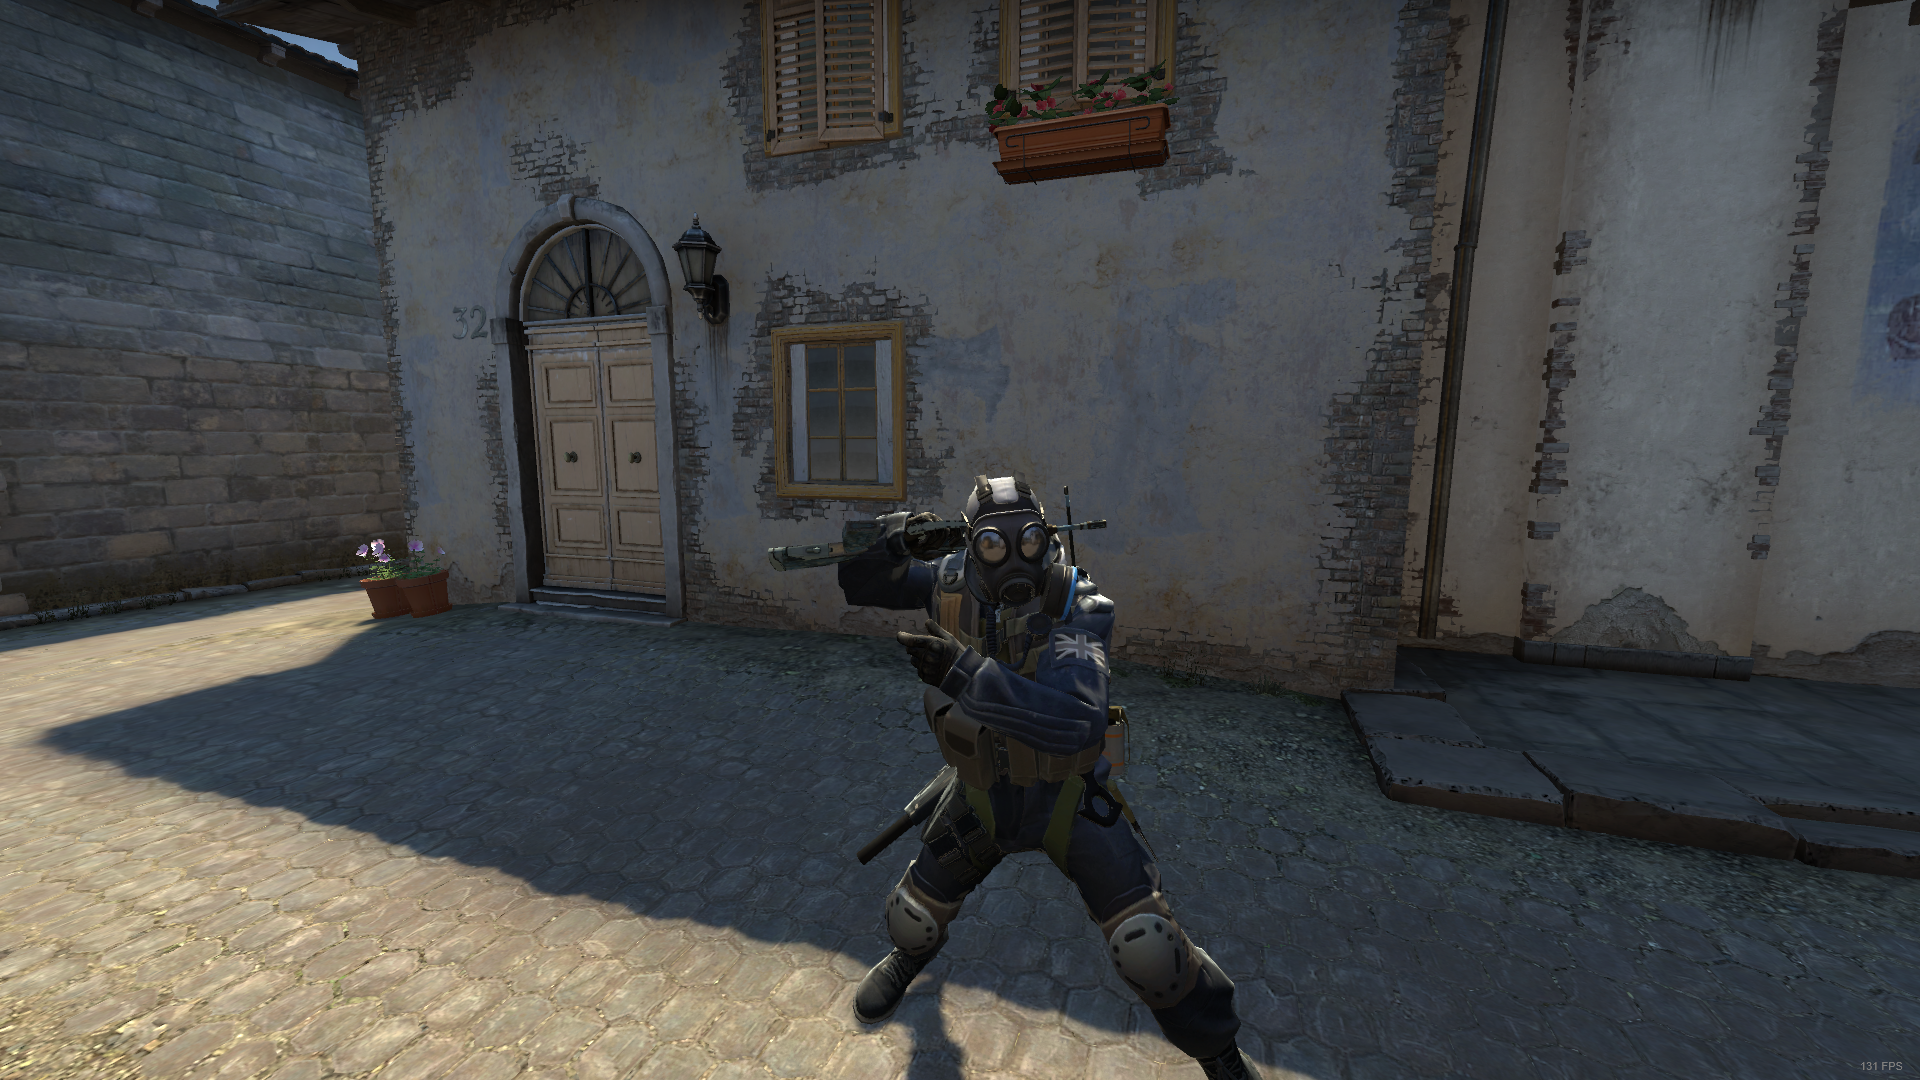ct: (833, 455, 1265, 1080)
